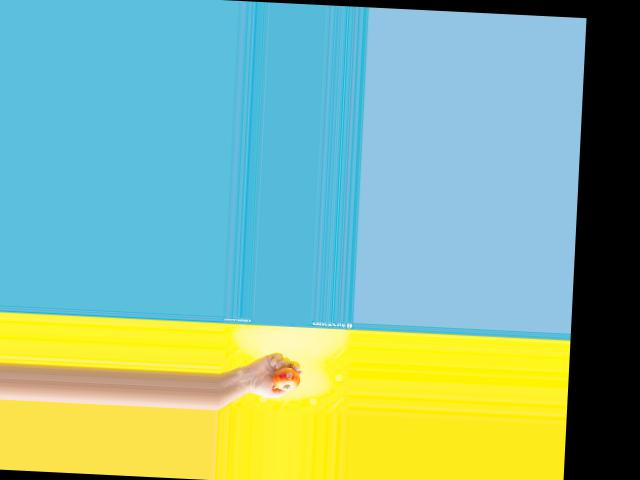tomato: (272, 366, 300, 390)
